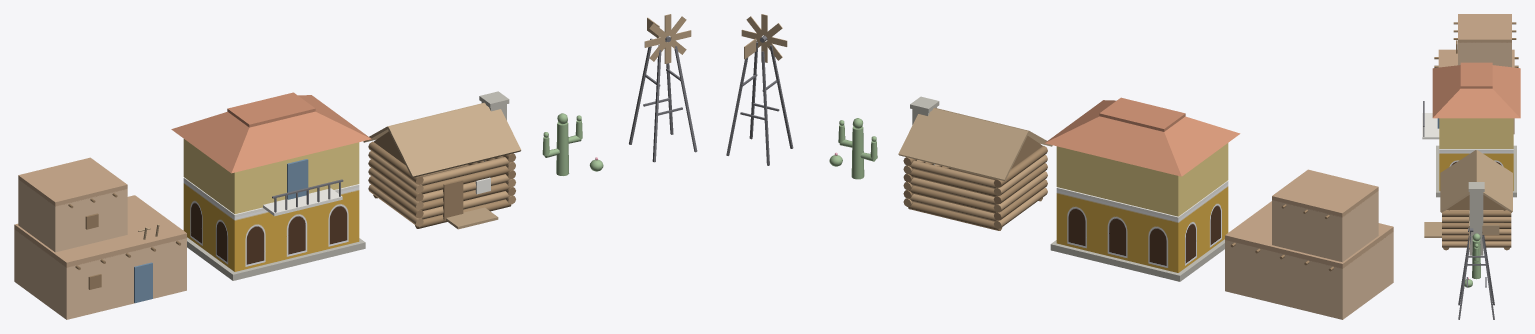
File: kit-28-amerika.glb
The picture shows the model from 3 angles, left to right: view 1: azimuth 30°, elevation 25°; view 2: azimuth 150°, elevation 25°; view 3: azimuth 270°, elevation 25°; orthographic projection. The views are drawn at different scales.
Parts seen in each view (by area): view 1: Amerika_RumahKolonial, Amerika_PuebloAdobe, Amerika_KabinKayu, Amerika_KincirAngin, Amerika_Kaktus; view 2: Amerika_RumahKolonial, Amerika_PuebloAdobe, Amerika_KabinKayu, Amerika_KincirAngin, Amerika_Kaktus; view 3: Amerika_RumahKolonial, Amerika_KabinKayu, Amerika_PuebloAdobe, Amerika_KincirAngin, Amerika_Kaktus.
Boxes of the visible parts, left/top/right/bottom form: Amerika_RumahKolonial: left=171, top=92, right=371, bottom=280; Amerika_PuebloAdobe: left=14, top=157, right=186, bottom=319; Amerika_KabinKayu: left=363, top=91, right=521, bottom=229; Amerika_KincirAngin: left=629, top=14, right=697, bottom=162; Amerika_Kaktus: left=542, top=113, right=603, bottom=175; Amerika_RumahKolonial: left=1045, top=97, right=1240, bottom=281; Amerika_PuebloAdobe: left=1225, top=169, right=1393, bottom=319; Amerika_KabinKayu: left=898, top=96, right=1052, bottom=230; Amerika_KincirAngin: left=726, top=14, right=793, bottom=165; Amerika_Kaktus: left=829, top=118, right=877, bottom=179; Amerika_RumahKolonial: left=1422, top=62, right=1520, bottom=197; Amerika_KabinKayu: left=1424, top=150, right=1512, bottom=255; Amerika_PuebloAdobe: left=1434, top=14, right=1518, bottom=134; Amerika_KincirAngin: left=1458, top=211, right=1499, bottom=319; Amerika_Kaktus: left=1464, top=233, right=1480, bottom=287.
Size of the model in its own units: 32.15 by 6.55 by 5.8.
Materials: 14 (1 with a texture image).
